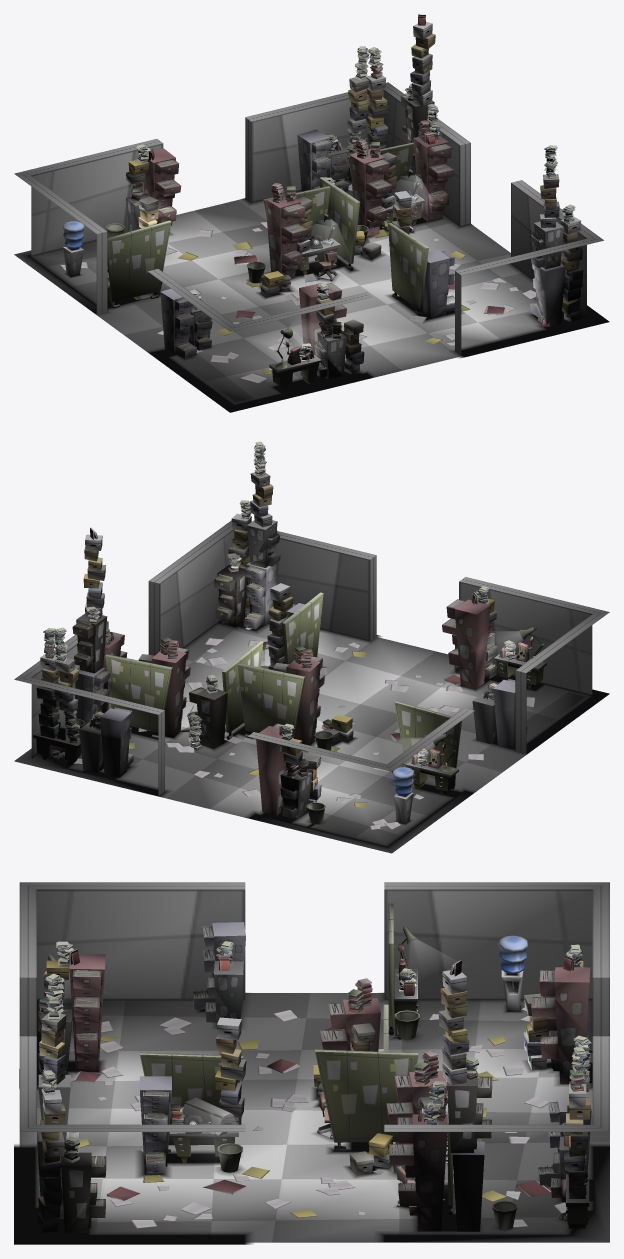
File: field_maze_quadrant6.glb
3 views of the same model, one above another, from view 1: azimuth 30°, elevation 25°; view 2: azimuth 150°, elevation 25°; view 3: azimuth 270°, elevation 25° (orthographic). The views are drawn at different scales.
Parts seen in each view (by area): view 1: maze_floor, maze4_grouping4, maze1_grouping1, maze6_grouping6, maze2_grouping2, maze5_grouping5, maze3_grouping3, maze7_floorPaperGrouping, maze5_floorShadow_grouping5, maze6_floorShadow_grouping6, maze4_floorShadow_grouping4, maze3_lightConeMd (+3 smaller); view 2: maze_floor, maze6_grouping6, maze5_grouping5, maze2_grouping2, maze3_grouping3, maze4_grouping4, maze1_grouping1, maze4_floorShadow_grouping4, maze7_floorPaperGrouping, maze5_floorShadow_grouping5, maze1_floorShadow_grouping1, maze5_lightConeSm (+2 smaller); view 3: maze_floor, maze5_grouping5, maze4_grouping4, maze6_grouping6, maze2_grouping2, maze3_grouping3, maze1_grouping1, maze7_floorPaperGrouping, maze6_floorShadow_grouping6, maze1_floorShadow_grouping1, maze6_lightConeLg, maze4_floorShadow_grouping4 (+6 smaller).
Boxes of the visible parts, x1,y1,x2,y2 form: maze_floor: (22,180,545,412); maze4_grouping4: (14,139,181,314); maze1_grouping1: (245,46,470,225); maze6_grouping6: (388,145,603,355); maze2_grouping2: (347,14,453,259); maze5_grouping5: (148,268,372,390); maze3_grouping3: (247,177,360,296); maze7_floorPaperGrouping: (60,184,536,383); maze5_floorShadow_grouping5: (146,346,376,412); maze6_floorShadow_grouping6: (385,263,609,358); maze4_floorShadow_grouping4: (14,232,173,315); maze3_lightConeMd: (308,223,345,257); maze_floor: (16,624,604,853); maze6_grouping6: (148,441,376,669); maze5_grouping5: (442,577,609,754); maze2_grouping2: (67,527,197,738); maze3_grouping3: (188,641,353,750); maze4_grouping4: (247,700,474,824); maze1_grouping1: (14,621,164,795); maze4_floorShadow_grouping4: (245,779,475,853); maze7_floorPaperGrouping: (73,627,535,829); maze5_floorShadow_grouping5: (450,668,609,755); maze1_floorShadow_grouping1: (14,748,173,797); maze5_lightConeSm: (486,631,523,668); maze_floor: (19,993,609,1242); maze5_grouping5: (19,882,245,1074); maze4_grouping4: (384,882,609,1084); maze6_grouping6: (19,973,246,1232); maze2_grouping2: (349,960,517,1231); maze3_grouping3: (313,978,447,1164); maze1_grouping1: (384,1035,609,1228); maze7_floorPaperGrouping: (71,1007,567,1228); maze6_floorShadow_grouping6: (14,1144,253,1244); maze1_floorShadow_grouping1: (375,1143,609,1242); maze6_lightConeLg: (169,1104,245,1154); maze4_floorShadow_grouping4: (378,992,592,1090).
Bounding box in the file's own units: 51.48 × 25.35 × 51.48.
10 materials, 7 textured.
